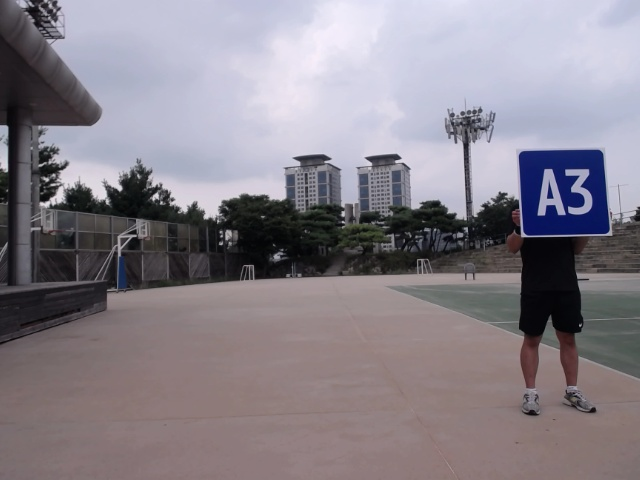delivery_a3: (516, 148, 613, 236)
